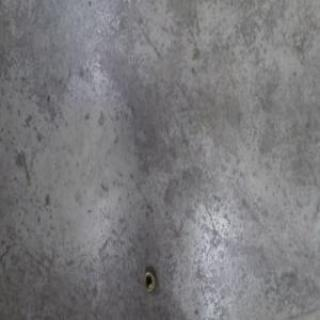Nuttrack_idkeyframe: (142, 267, 156, 294)
